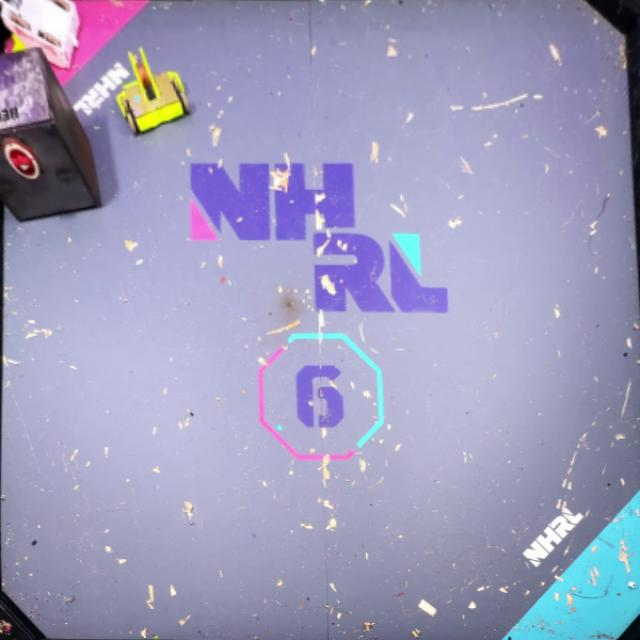housebot: (0, 41, 103, 227)
robot: (109, 39, 199, 142), (0, 0, 87, 68)
